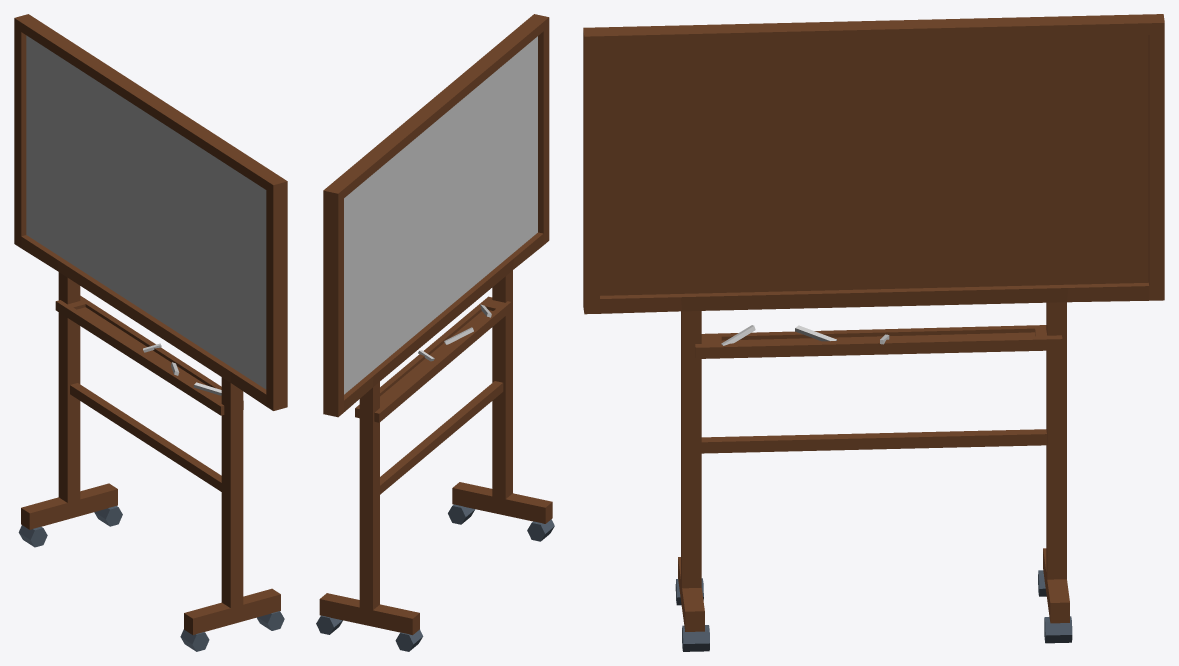
File: baord.fbx
3 renders of one model, left to right at view 1: azimuth 30°, elevation 25°; view 2: azimuth 150°, elevation 25°; view 3: azimuth 270°, elevation 25°, orthographic. The views are drawn at different scales.
Visible parts, largest first — view 1: baord; view 2: baord; view 3: baord.
Part boxes in pixels (x1,y1,x2,y2): baord: (14,14,287,651); baord: (316,14,554,651); baord: (583,14,1164,651).
Bounding box in the file's own units: 45.3 × 189 × 168.
